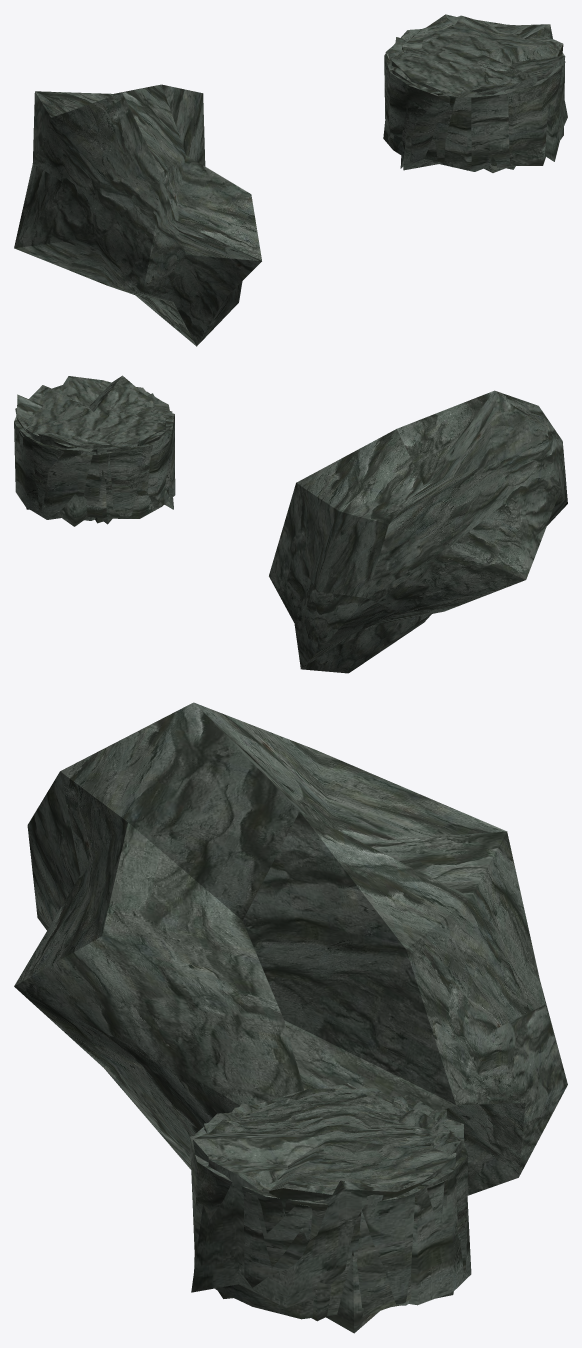
File: rocks_all4.glb
3 renders of one model, top to bottom at view 1: azimuth 30°, elevation 25°; view 2: azimuth 150°, elevation 25°; view 3: azimuth 270°, elevation 25°, orthographic. The views are drawn at different scales.
Parts seen in each view (by area): view 1: Sphere.8, 10-512 (×2), 2-512 (×2), 3-512, 9-512 (×2), 1-512; view 2: Sphere.8, 10-512 (×2), 2-512, 1-512, 9-512 (×2), 3-512; view 3: Sphere.8, 10-512 (×2), 9-512 (×2), 2-512 (×2), 1-512, 3-512.
Boxes of the visible parts, x1=… form: Sphere.8: x1=14, y1=84, x2=261, y2=346; 10-512 (×2): x1=391, y1=15, x2=563, y2=170; 2-512 (×2): x1=383, y1=20, x2=564, y2=165; 3-512: x1=389, y1=72, x2=514, y2=169; 9-512 (×2): x1=400, y1=14, x2=567, y2=168; 1-512: x1=384, y1=56, x2=565, y2=170; Sphere.8: x1=269, y1=390, x2=567, y2=673; 10-512 (×2): x1=25, y1=375, x2=173, y2=524; 2-512: x1=15, y1=414, x2=175, y2=519; 1-512: x1=14, y1=422, x2=170, y2=516; 9-512 (×2): x1=17, y1=376, x2=173, y2=526; 3-512: x1=23, y1=420, x2=173, y2=518; Sphere.8: x1=14, y1=702, x2=567, y2=1195; 10-512 (×2): x1=193, y1=1088, x2=457, y2=1333; 9-512 (×2): x1=191, y1=1109, x2=461, y2=1307; 2-512 (×2): x1=190, y1=1103, x2=471, y2=1321; 1-512: x1=215, y1=1181, x2=465, y2=1319; 3-512: x1=258, y1=1156, x2=467, y2=1316.
Bounding box in the file's own units: 39.31 × 20.02 × 22.38.
Materials: 1 (1 with a texture image).
